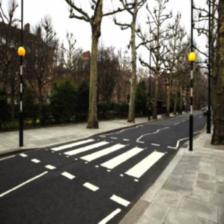crosswalk: (48, 136, 173, 184)
